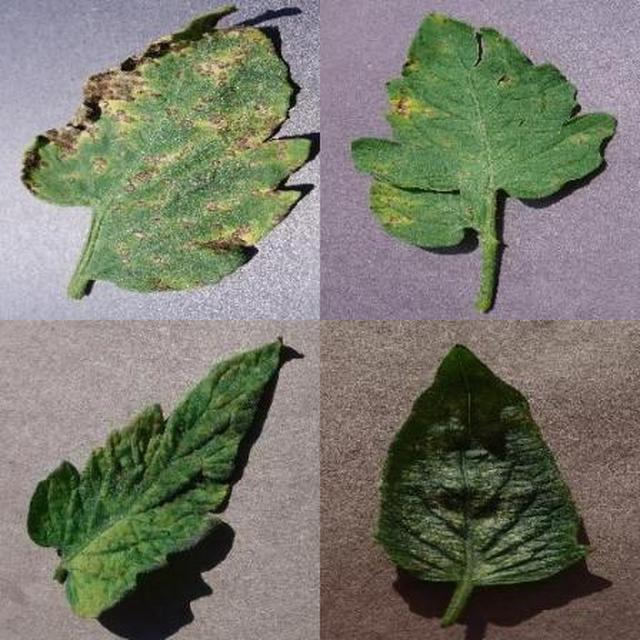Septoria Leaf: (220, 186, 640, 640)
